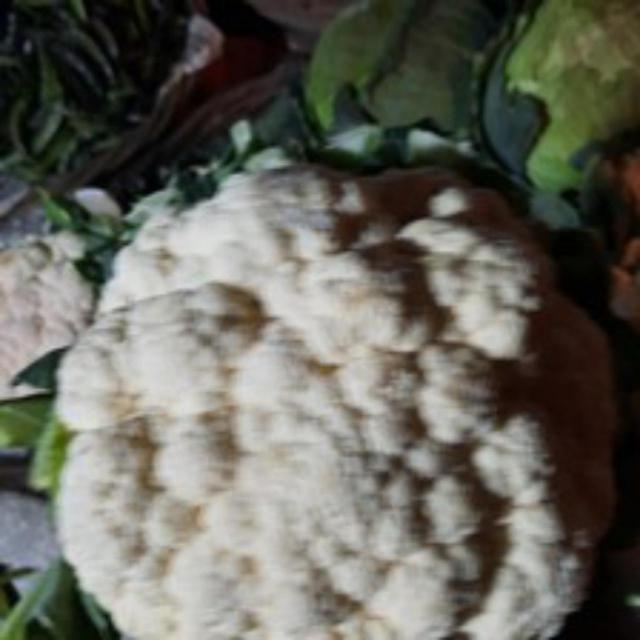cauliflower: (46, 137, 616, 637)
